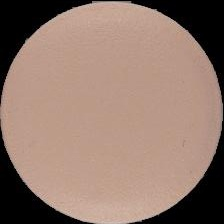54868-5728: (0, 0, 224, 224)
